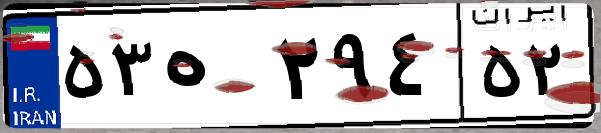2: (270, 28, 330, 110), (525, 38, 570, 115)
3: (110, 28, 158, 98)
4: (385, 28, 445, 110)
5: (57, 26, 110, 100), (475, 38, 525, 113)
9: (330, 28, 385, 110)
ه: (158, 20, 270, 120)
